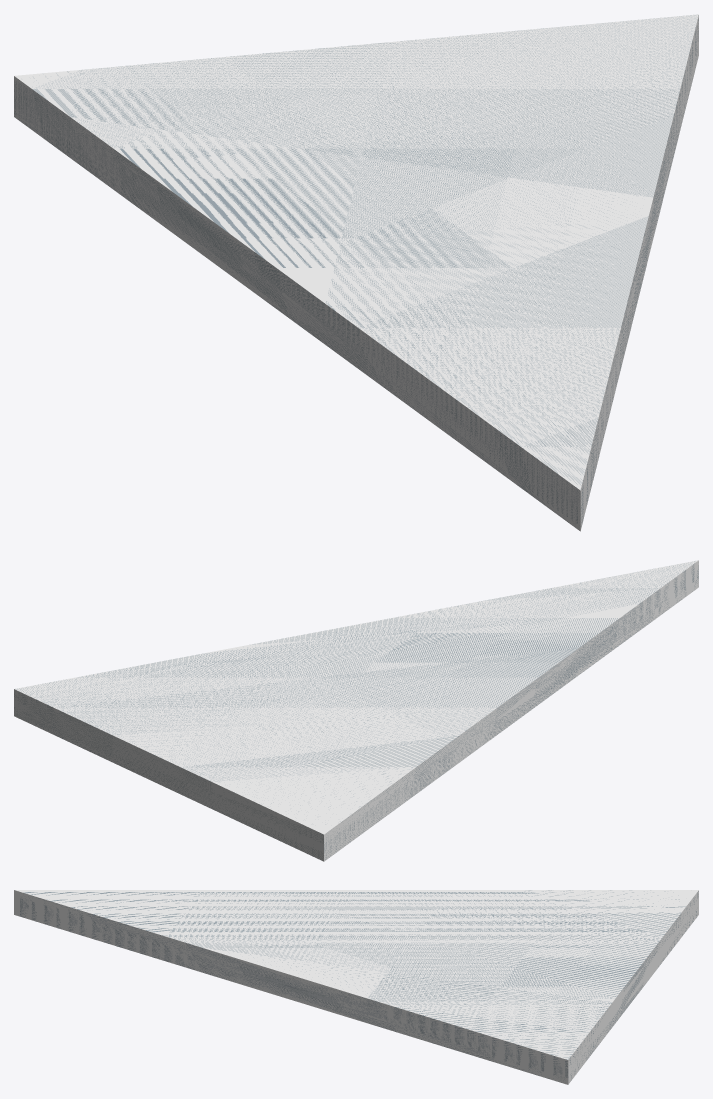
The model's file is triangle 36 deg.fbx.
The picture shows the model from 3 angles, top to bottom: view 1: azimuth 30°, elevation 25°; view 2: azimuth 150°, elevation 25°; view 3: azimuth 270°, elevation 25°; orthographic projection. The views are drawn at different scales.
Visible parts, largest first — view 1: Model; view 2: Model; view 3: Model.
Boxes of the visible parts, bbox=[...] form: Model: bbox=[14, 14, 698, 531]; Model: bbox=[14, 560, 698, 861]; Model: bbox=[14, 890, 698, 1084].
Bounding box in the file's own units: 2.94 × 0.2 × 5.
